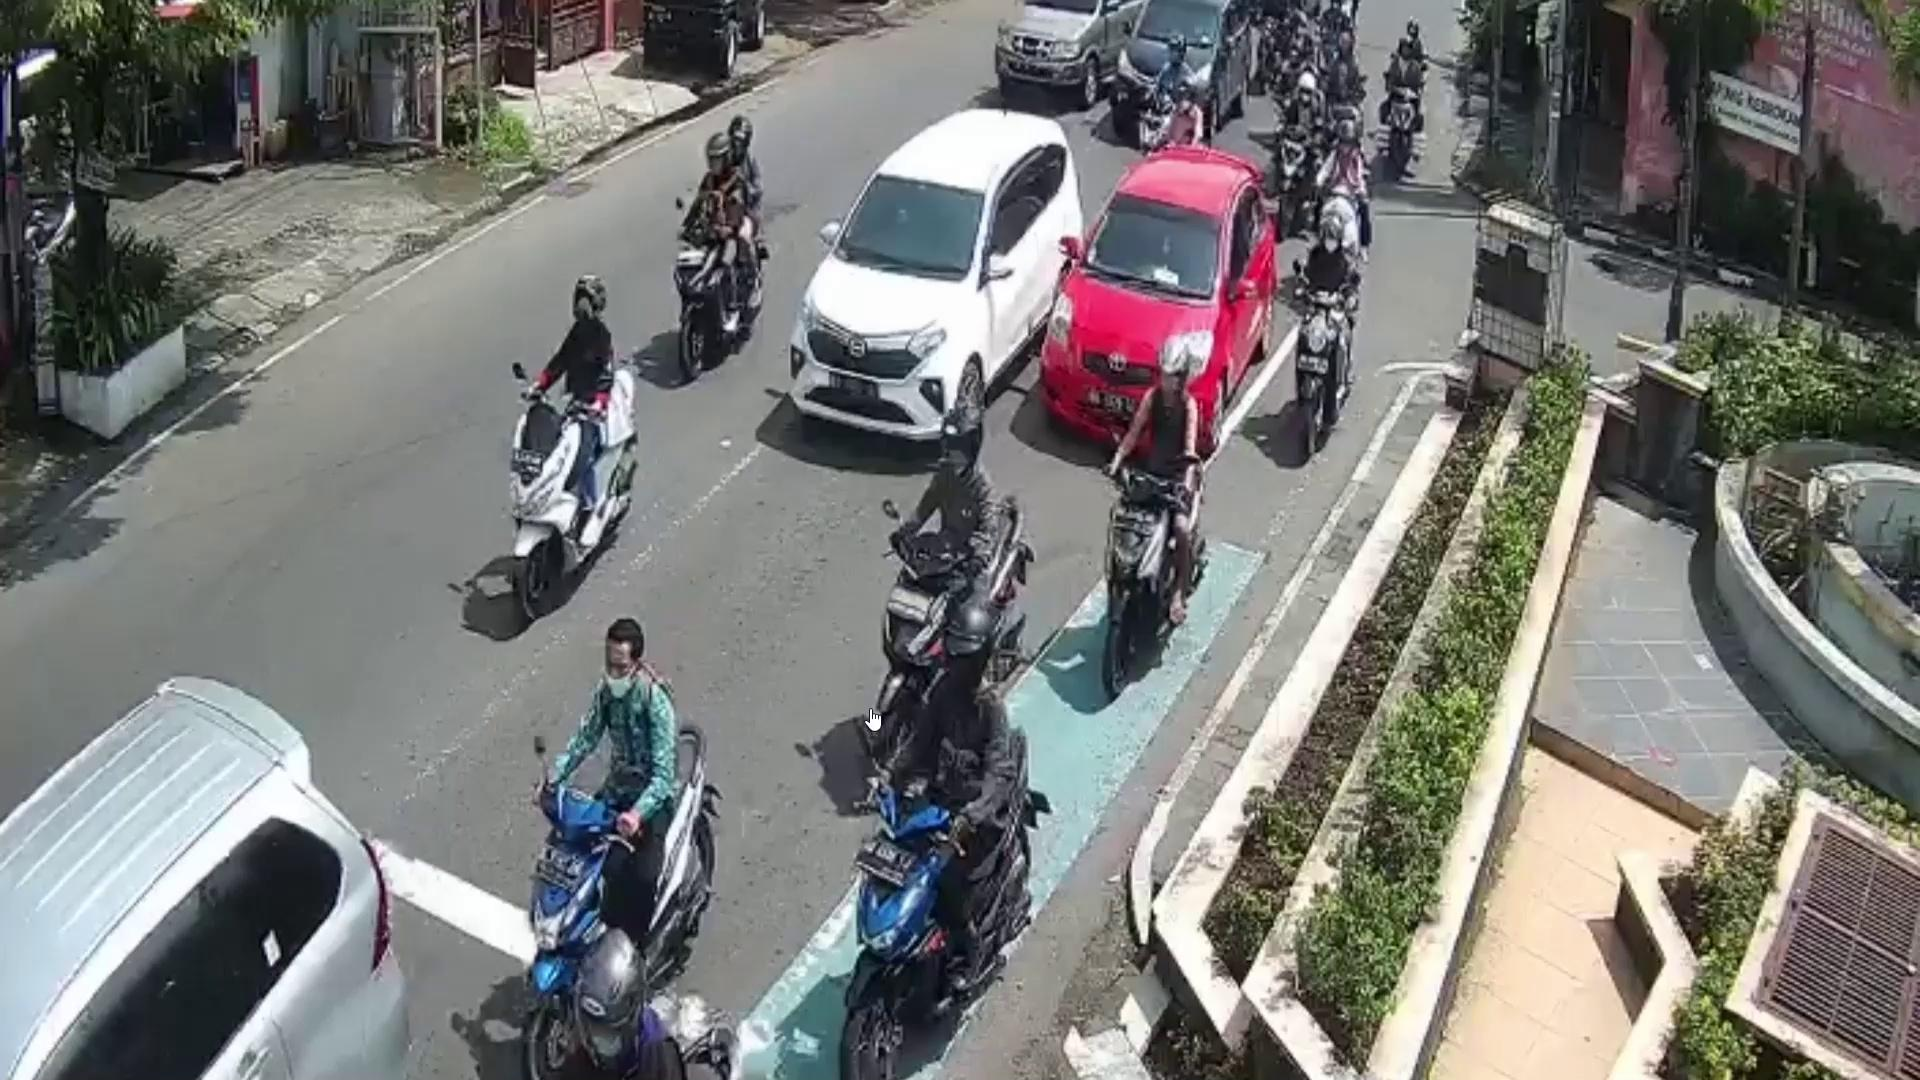car: (0, 670, 414, 1080), (787, 107, 1080, 465), (1044, 141, 1279, 456), (1117, 0, 1254, 137), (1000, 0, 1141, 105)
motorbike: (843, 727, 1039, 1080), (524, 716, 713, 1080), (880, 492, 1026, 746), (508, 372, 637, 615), (1097, 473, 1175, 705), (675, 208, 765, 375), (1291, 282, 1340, 468)
